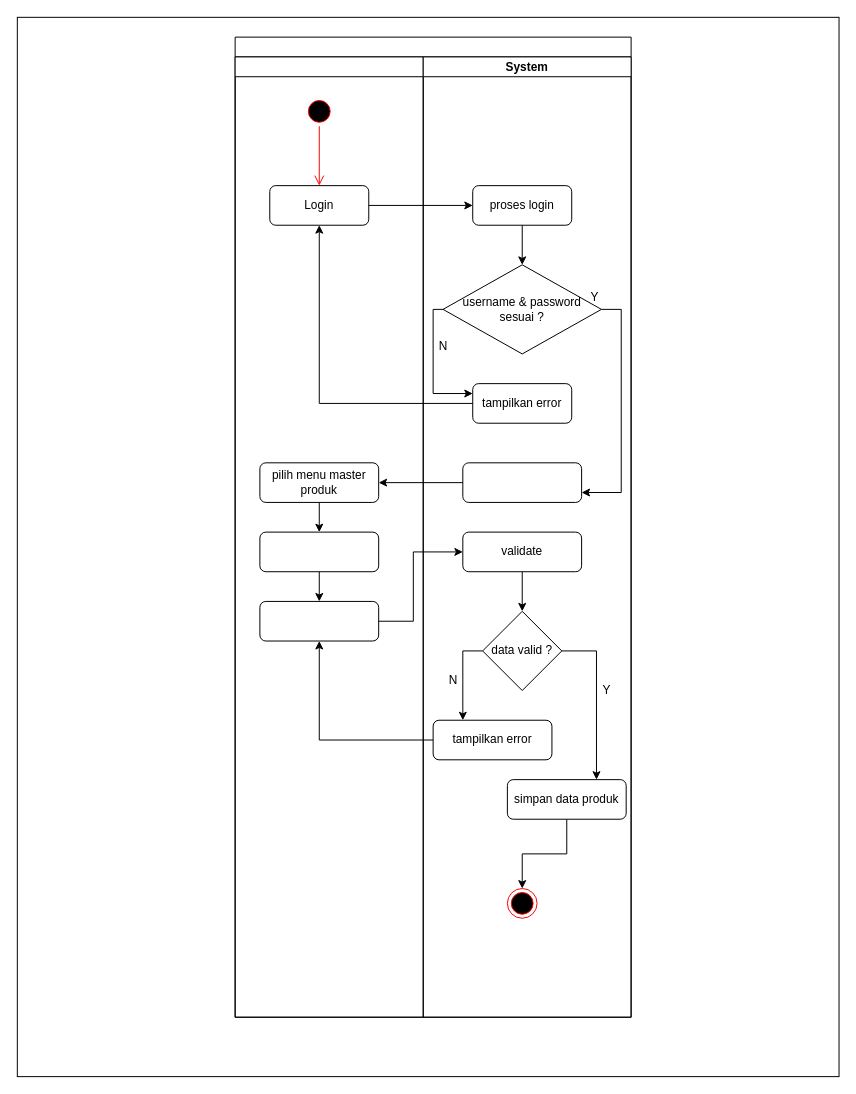
Image size: 856x1094. Some labels were removed from this diagram. The shapes that lost their labels are listed below. From the top down, each one's box as (x1, y1, x2, y2) in pixels, then its label:
(462, 462, 582, 502): tampilkan halaman dashboard admin
(234, 56, 423, 1017): Admin
(234, 36, 631, 1017): Point Of Sale
(259, 531, 379, 572): klik button tambah produk
(259, 600, 379, 641): input data produk
